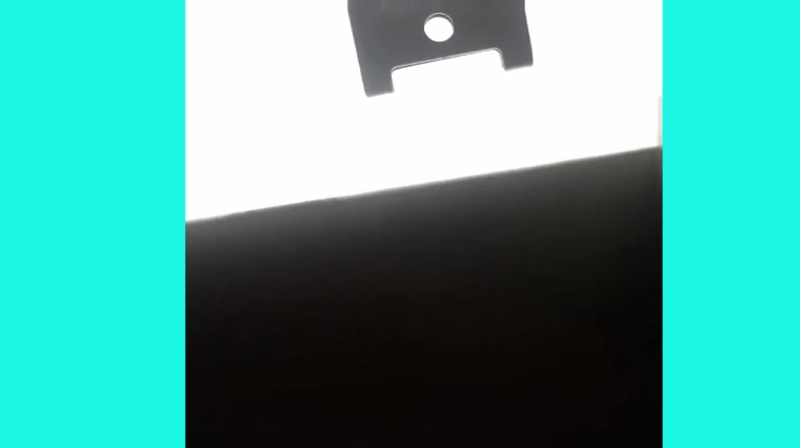O002: (341, 0, 538, 97)
